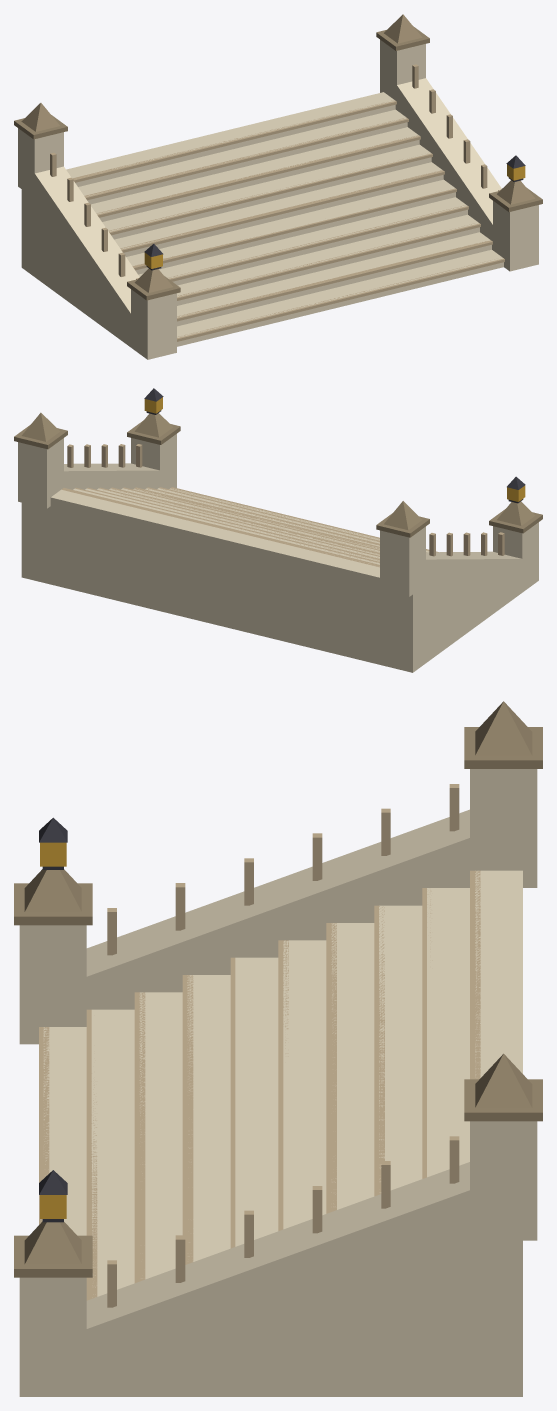
The model's file is Stairs_Wide.fbx.
3 views of the same model, one above another, from view 1: azimuth 30°, elevation 25°; view 2: azimuth 150°, elevation 25°; view 3: azimuth 270°, elevation 25° (orthographic). The views are drawn at different scales.
Parts seen in each view (by area): view 1: Stairs_Wide; view 2: Stairs_Wide; view 3: Stairs_Wide.
Boxes of the visible parts, x1,y1,x2,y2 form: Stairs_Wide: (14,14,542,359); Stairs_Wide: (14,388,542,672); Stairs_Wide: (14,701,542,1396).
Size of the model in its own units: 9.52 by 3.79 by 5.52.
